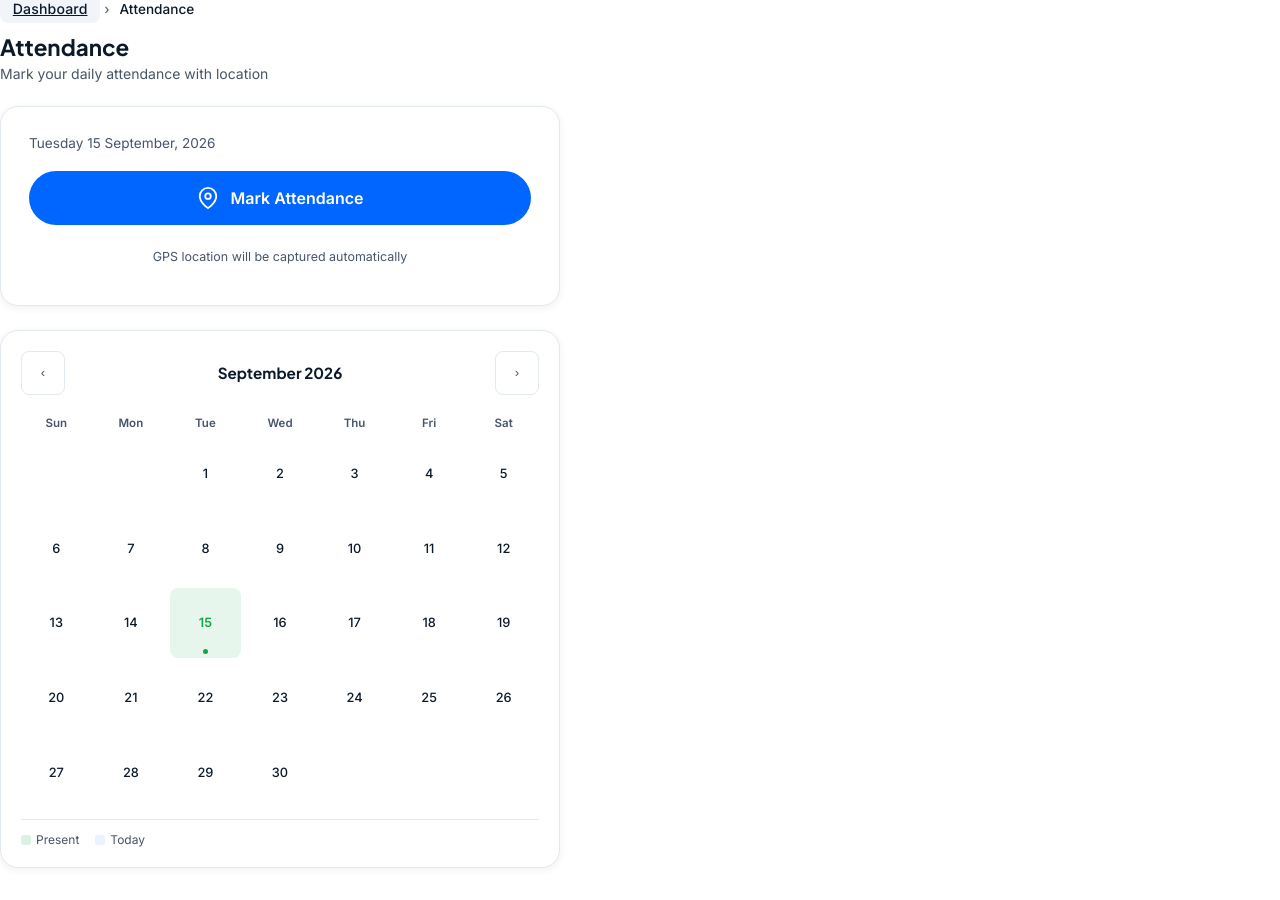
Scenario: §8.13a — Attendance date-detail modal uses shared <Modal> › Escape closes the modal (Modal primitive owns Escape handling)
Click the text "15" at (205, 623), box 170,588 -> 241,658
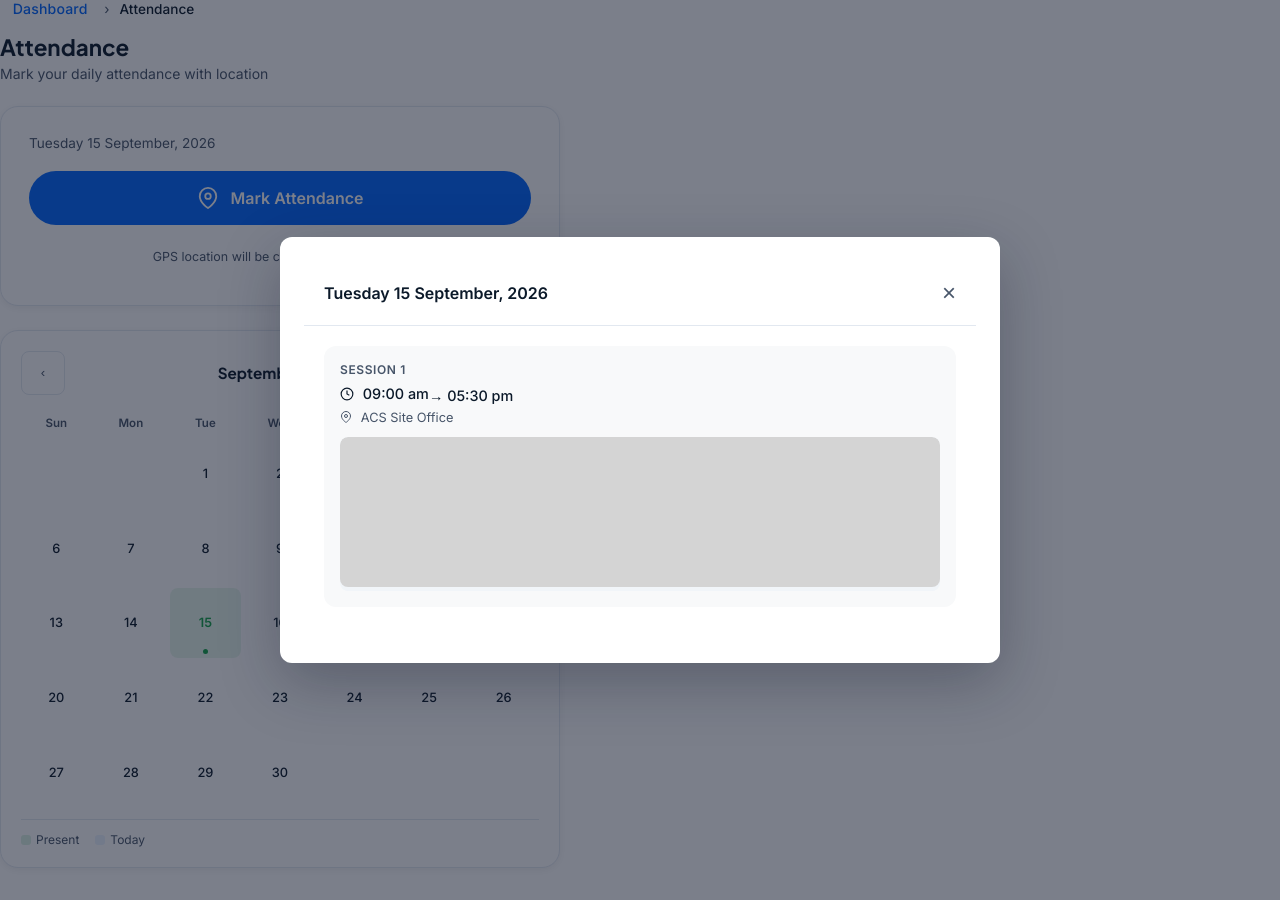
Now the dialog is shown
Press Escape in the dialog
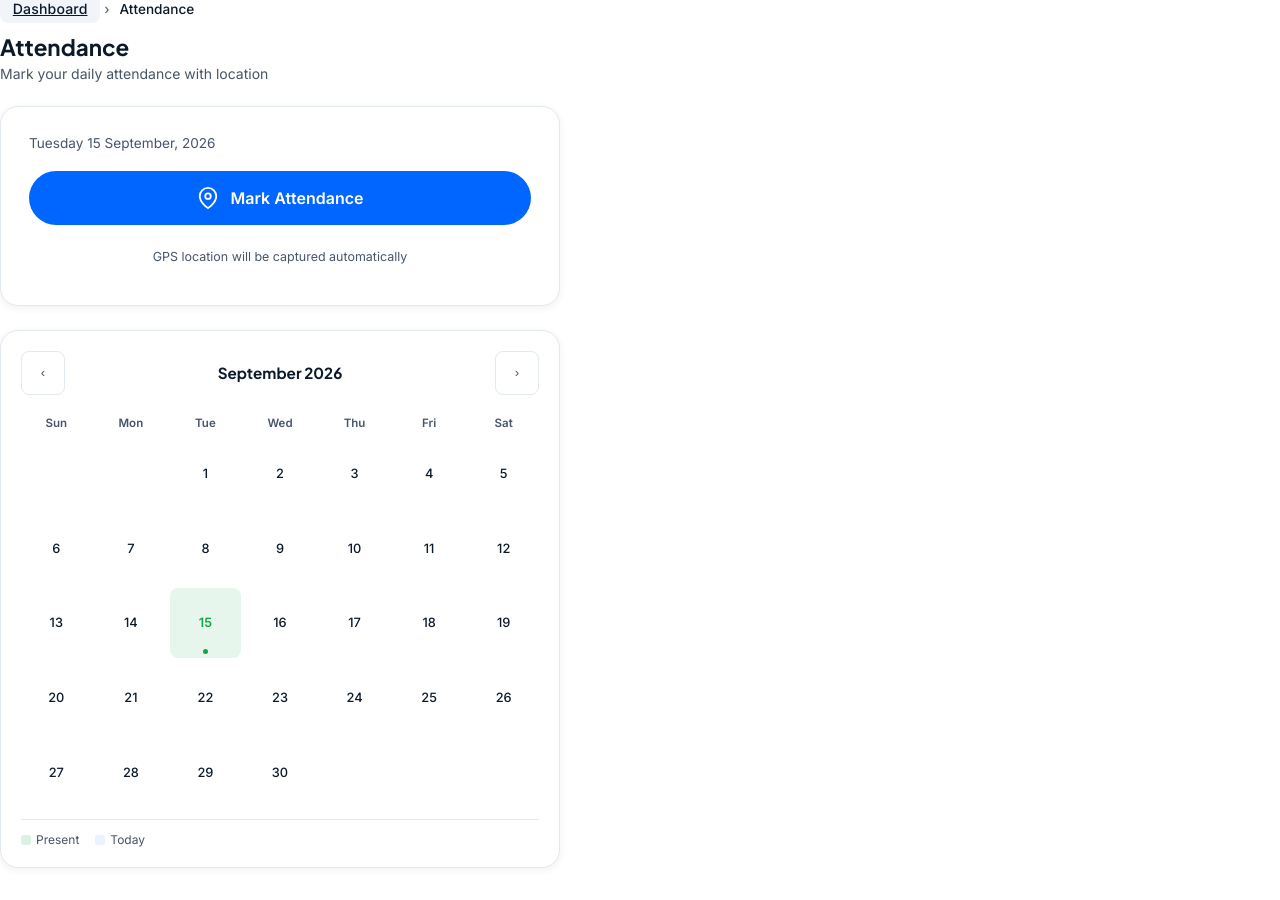
Now the dialog is gone
